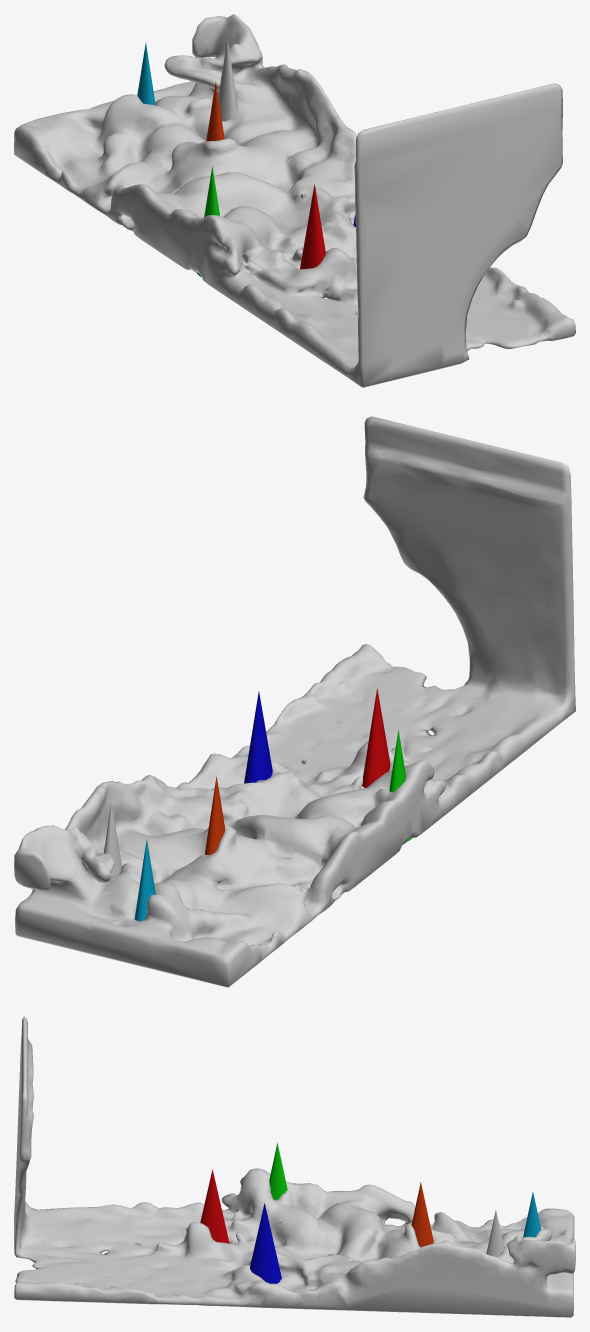
3 renders of one model, top to bottom at view 1: azimuth 30°, elevation 25°; view 2: azimuth 150°, elevation 25°; view 3: azimuth 270°, elevation 25°, orthographic. The views are drawn at different scales.
Parts seen in each view (by area): view 1: Liquid_Domain, 円錐.001, 円錐, 円錐.005, 円錐.004; view 2: Liquid_Domain, 円錐.001, 円錐.002, 円錐.005, 円錐.004; view 3: Liquid_Domain, 円錐.002, 円錐.001, 円錐.004, 円錐.003, 円錐, 円錐.005.
Part boxes in pixels (x1,y1,x2,y2): Liquid_Domain: (14, 14, 575, 387); 円錐.001: (300, 184, 325, 269); 円錐: (218, 39, 237, 121); 円錐.005: (137, 43, 155, 105); 円錐.004: (206, 82, 224, 141); Liquid_Domain: (14, 416, 575, 987); 円錐.001: (362, 688, 390, 787); 円錐.002: (244, 691, 272, 783); 円錐.005: (134, 838, 155, 921); 円錐.004: (204, 776, 225, 854); Liquid_Domain: (14, 1016, 575, 1317); 円錐.002: (250, 1203, 281, 1283); 円錐.001: (200, 1169, 229, 1243); 円錐.004: (411, 1182, 433, 1246); 円錐.003: (269, 1142, 287, 1200); 円錐: (486, 1210, 504, 1256); 円錐.005: (523, 1192, 541, 1237).
Bounding box in the file's own units: 129 × 158 × 362.
